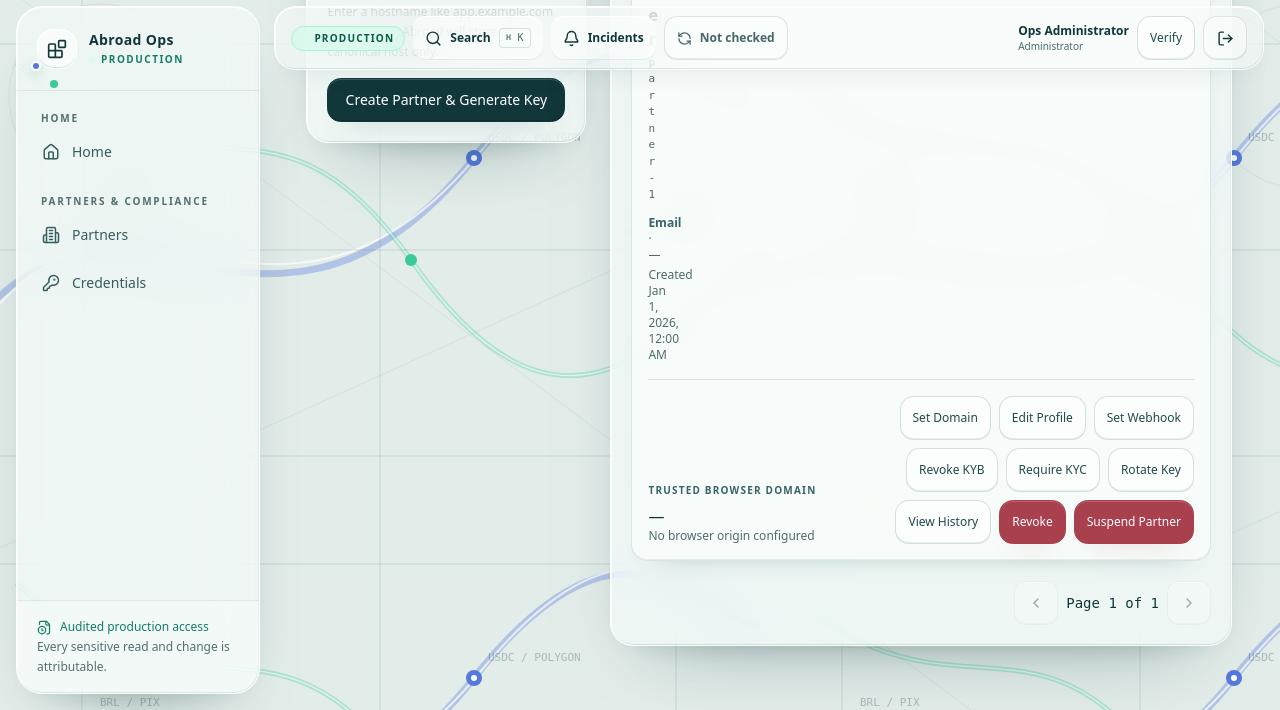
Test: PartnerApiKeys page › shows safe credential metadata, graceful overlap, and lifecycle history
The image size is (1280, 710).
(page scrolled)
Click the button "View History" at [943, 522], box left=895, top=500, right=991, bottom=544
(page scrolled)
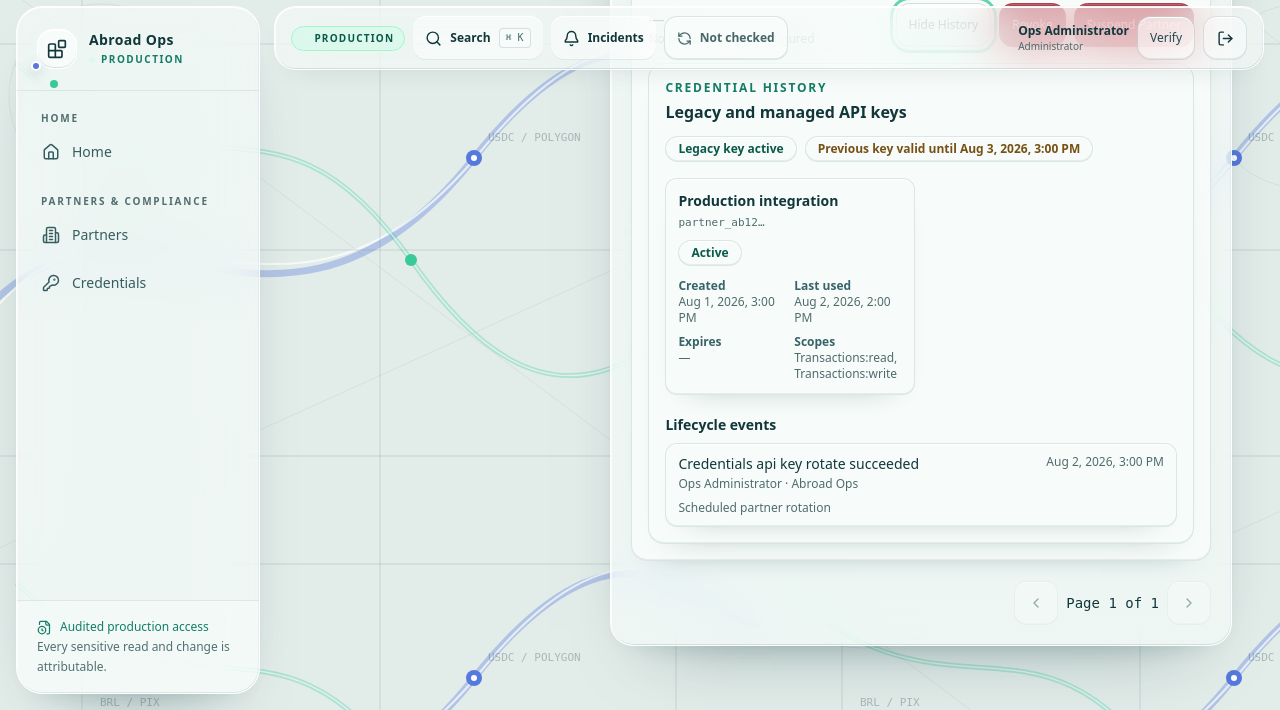
Now the element named "Credential history for Credential Partner" is shown, box left=648, top=63, right=1194, bottom=544
Now the text "Production integration" is shown, box left=678, top=191, right=838, bottom=211
Now the text "partner_ab12…" is shown, box left=678, top=216, right=764, bottom=229
